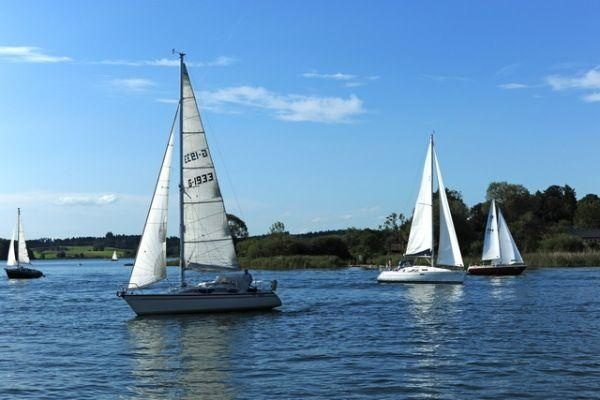fanchuan: (100, 50, 281, 330), (371, 131, 471, 288), (470, 198, 528, 280), (3, 202, 38, 287)
